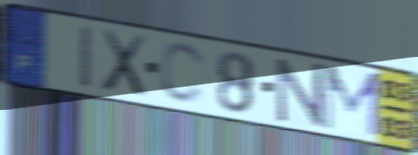8: (215, 49, 257, 115)
C: (157, 40, 208, 107)
I: (78, 22, 94, 92)
M: (321, 63, 383, 140)
N: (274, 57, 327, 130)
X: (99, 26, 148, 100)
